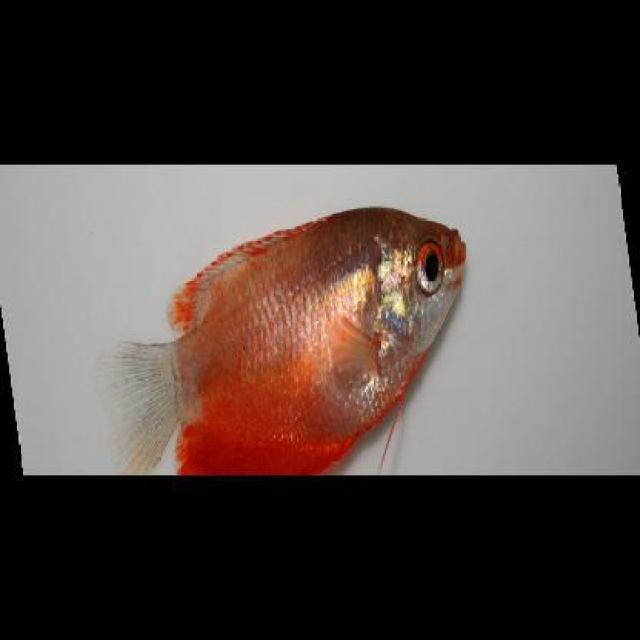Gourami: (93, 204, 464, 473)
